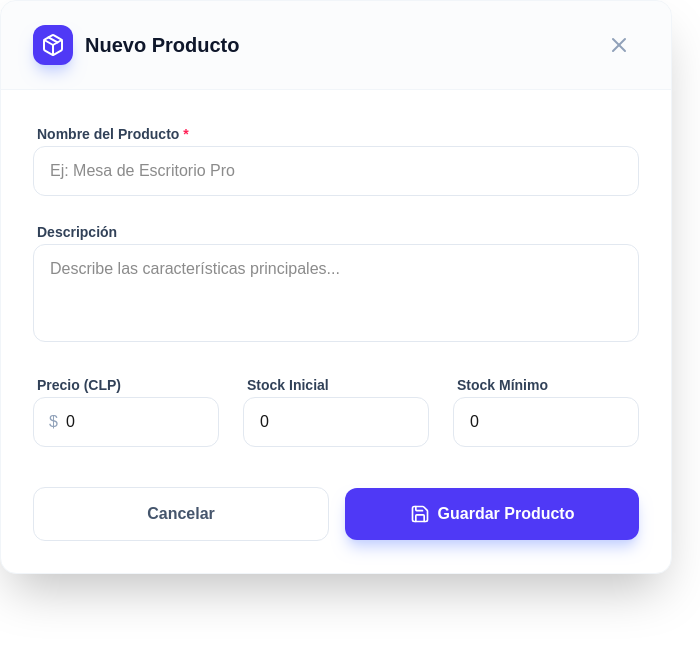
Test: ProductoForm › precio negativo muestra error de validación
The width and height of the screenshot is (700, 667).
Type "Test" into the field labelled "Nombre del Producto *" at {"x": 336, "y": 171}, box [33,146,639,196]
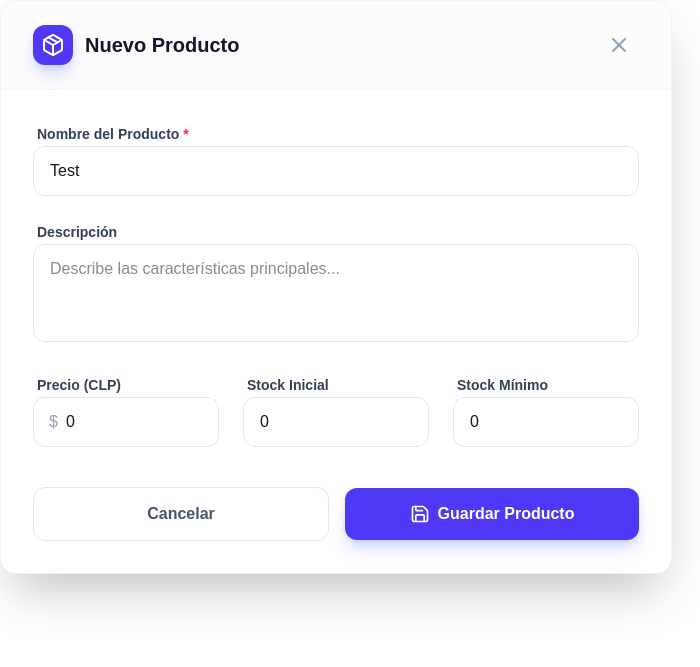
Clear the number field labelled "Precio (CLP)" at {"x": 126, "y": 422}, box [33,397,219,447]
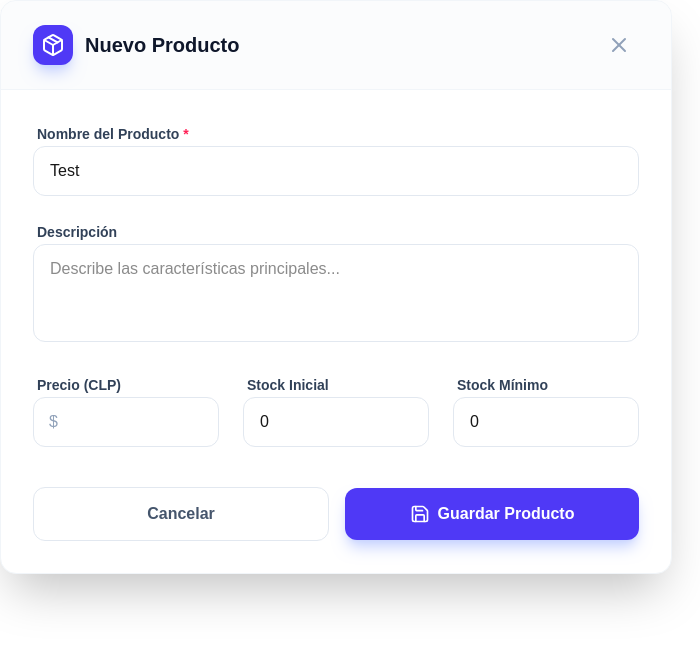
Click the button "Guardar Producto" at {"x": 492, "y": 514}, box [345,488,639,540]
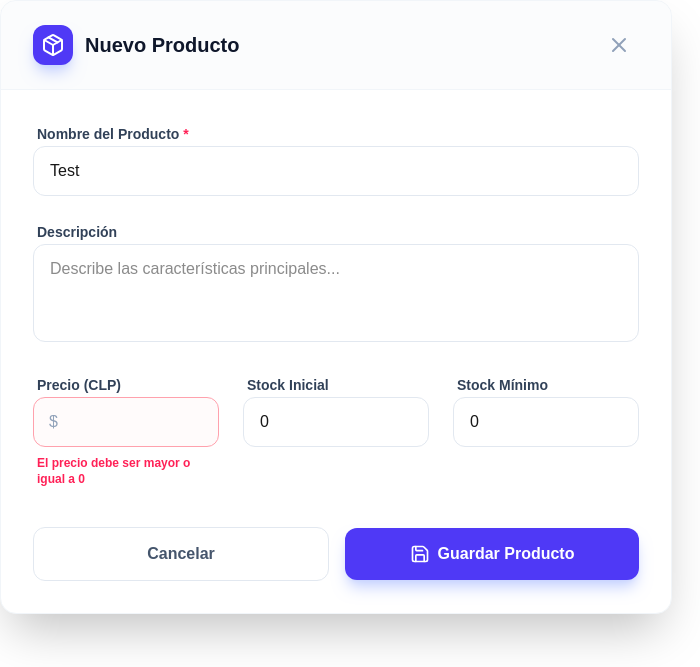
Expected: the text "El precio debe ser mayor o igual a 0" is shown, [37,456,190,486]
